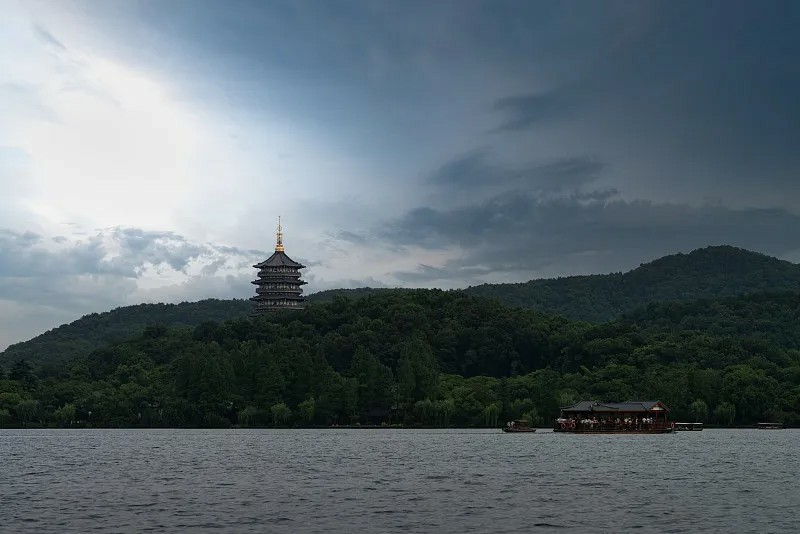Leifeng: (251, 216, 308, 315)
